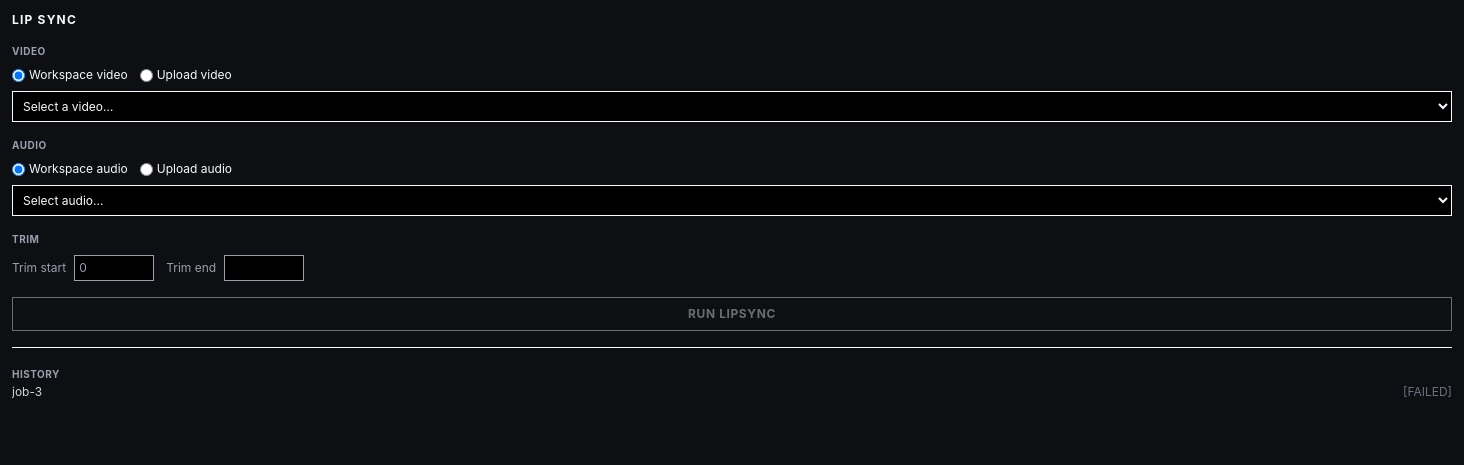
Test: LipsyncPanel › shows job.error for a FAILED job
Click the button "job-3" at (27, 392), box [12, 384, 42, 400]
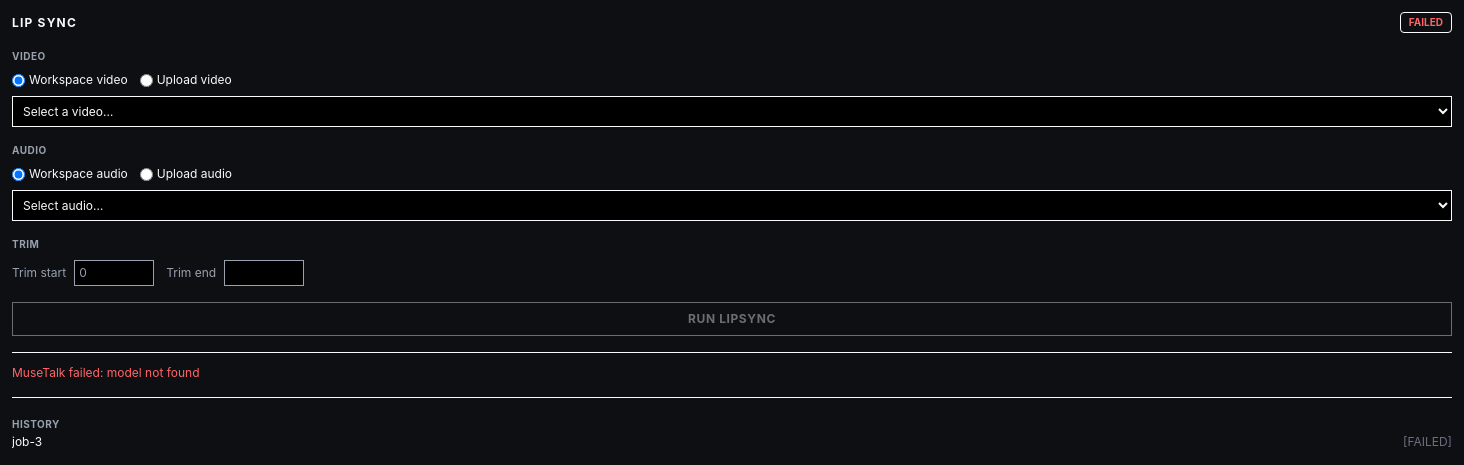
expect the text "FAILED" is shown: met, box [1409, 15, 1443, 30]
expect the text "MuseTalk failed: model not found" is shown: met, box [12, 365, 200, 380]
